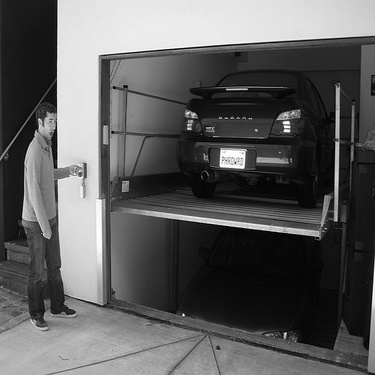car: (181, 66, 334, 207), (165, 226, 323, 353)
